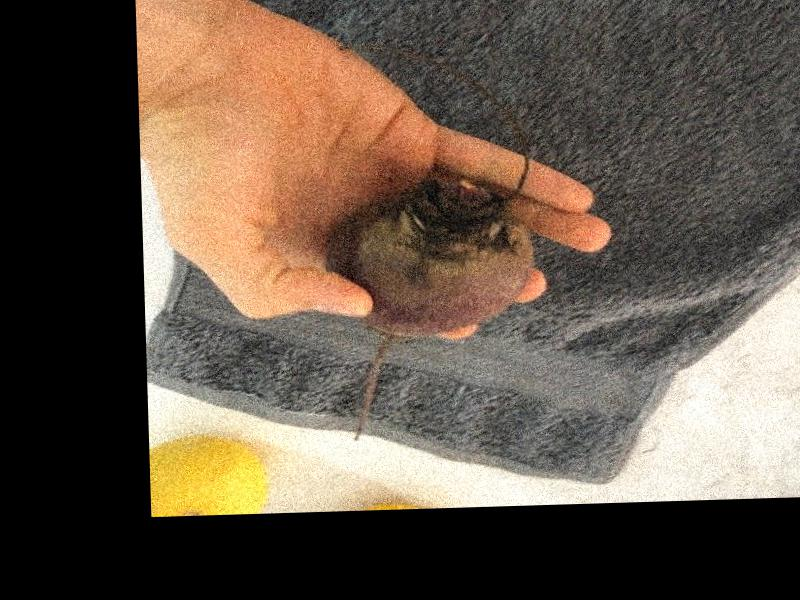Beet: (322, 169, 535, 440)
